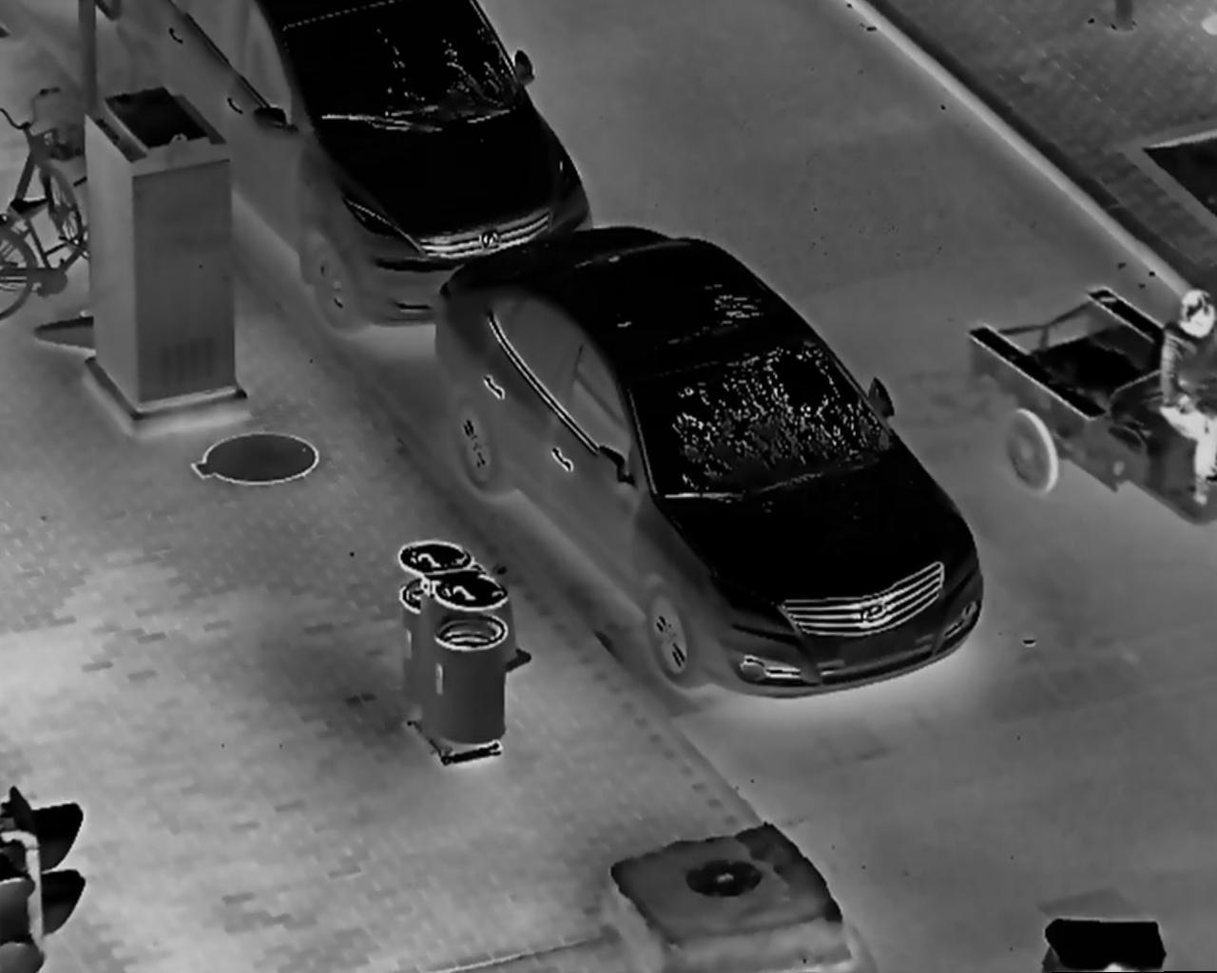person: (1153, 283, 1217, 511)
